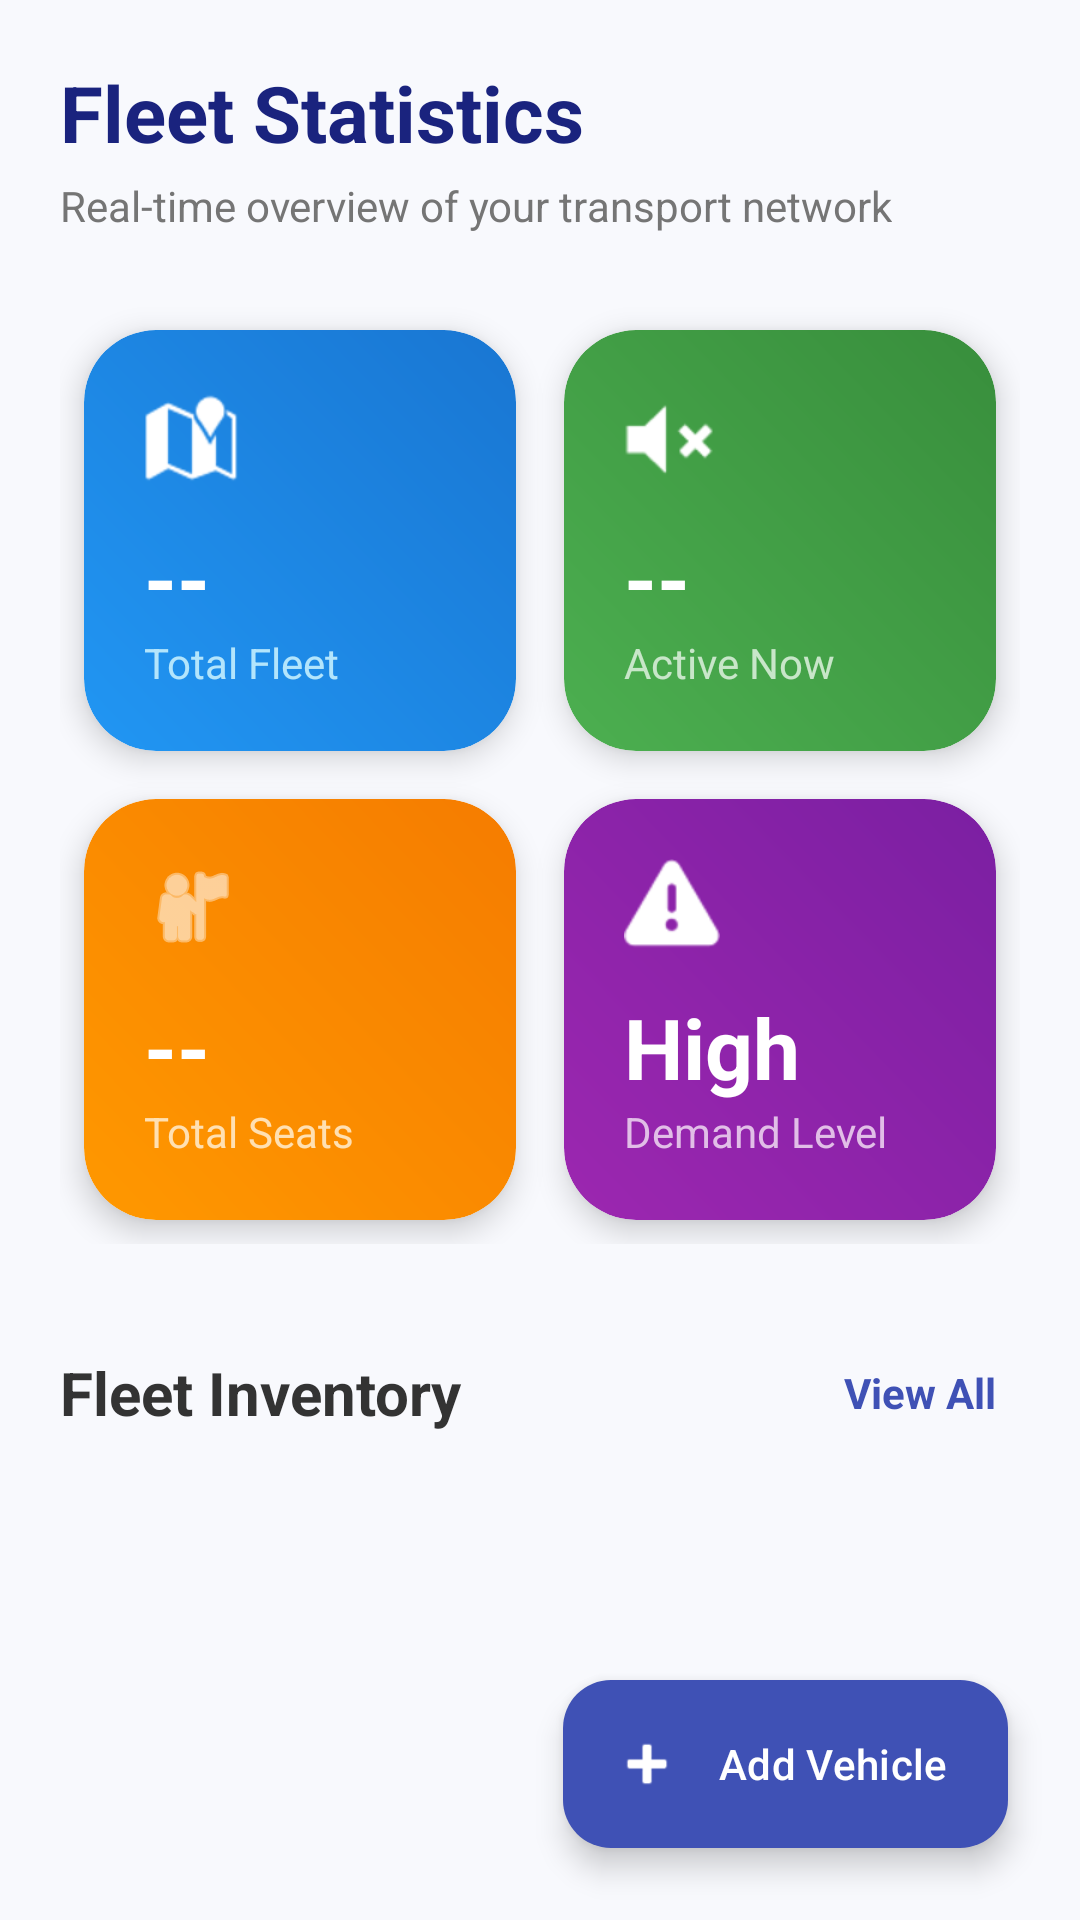

Where to tap for icons on this 1080 × 1920 app screen, as (x,y):
alert: (672,903)
lock silent mode: (669,439)
map: (191,438)
